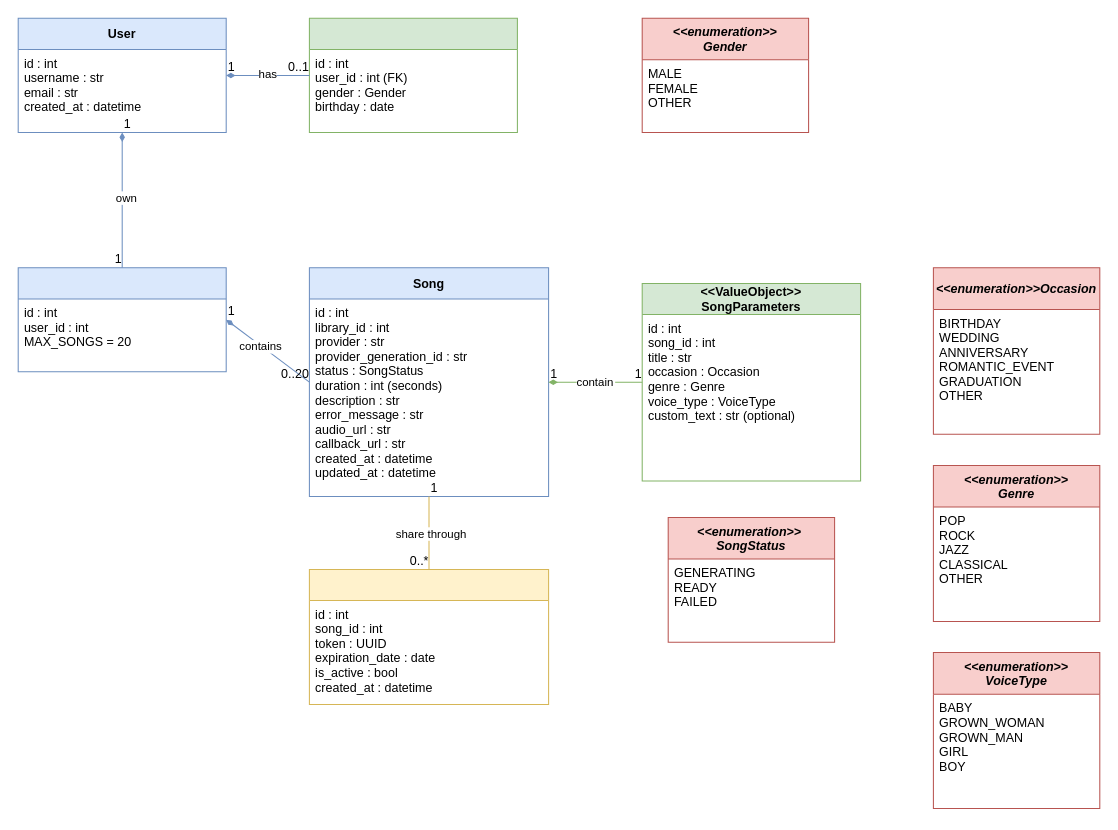
This 1118x830 diagram has some shape labels left out. The shapes that lost their labels are listed below. From the top down, each one's box as (x1, y1, x2, y2) in pixels, then its label:
(308, 17, 517, 133): Profile
(17, 267, 226, 372): Library
(308, 568, 549, 705): ShareLink
